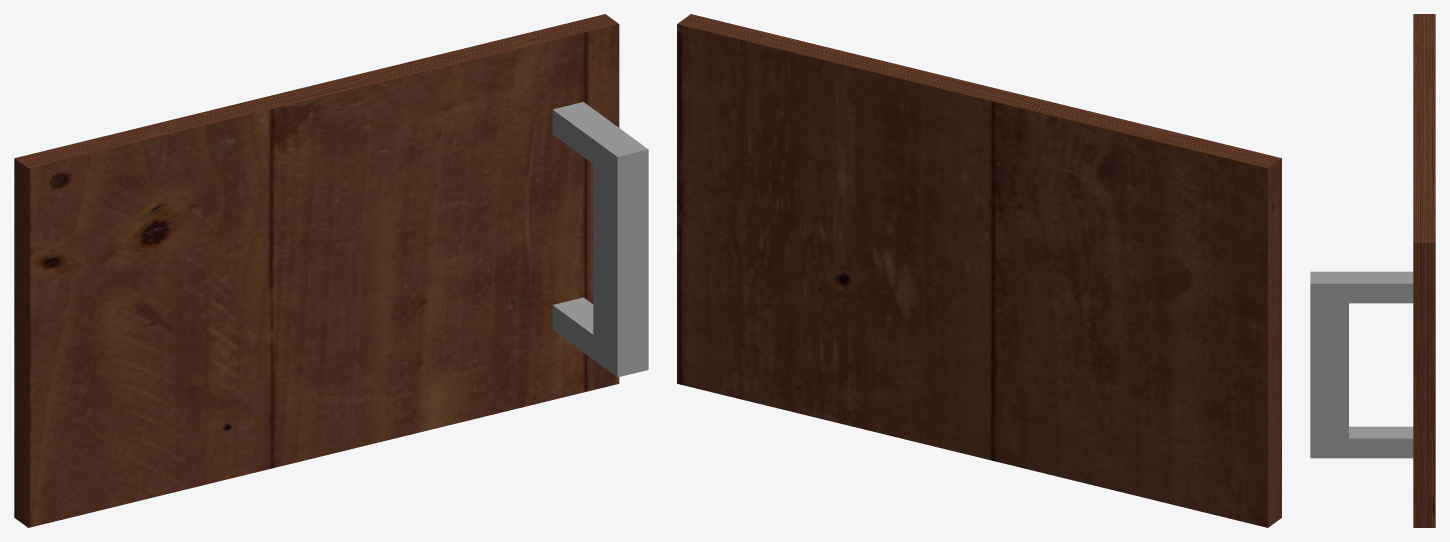
Rendered from mejarak.fbx.
The picture shows the model from 3 angles, left to right: view 1: azimuth 30°, elevation 25°; view 2: azimuth 150°, elevation 25°; view 3: azimuth 270°, elevation 25°; orthographic projection. The views are drawn at different scales.
Parts seen in each view (by area): view 1: Cube.006; view 2: Cube.006; view 3: Cube.006.
Part boxes in pixels (<box>): Cube.006: <box>14,14,648,527</box>; Cube.006: <box>677,14,1281,527</box>; Cube.006: <box>1310,14,1435,527</box>.
Bounding box in the file's own units: 374 × 218 × 86.51.
